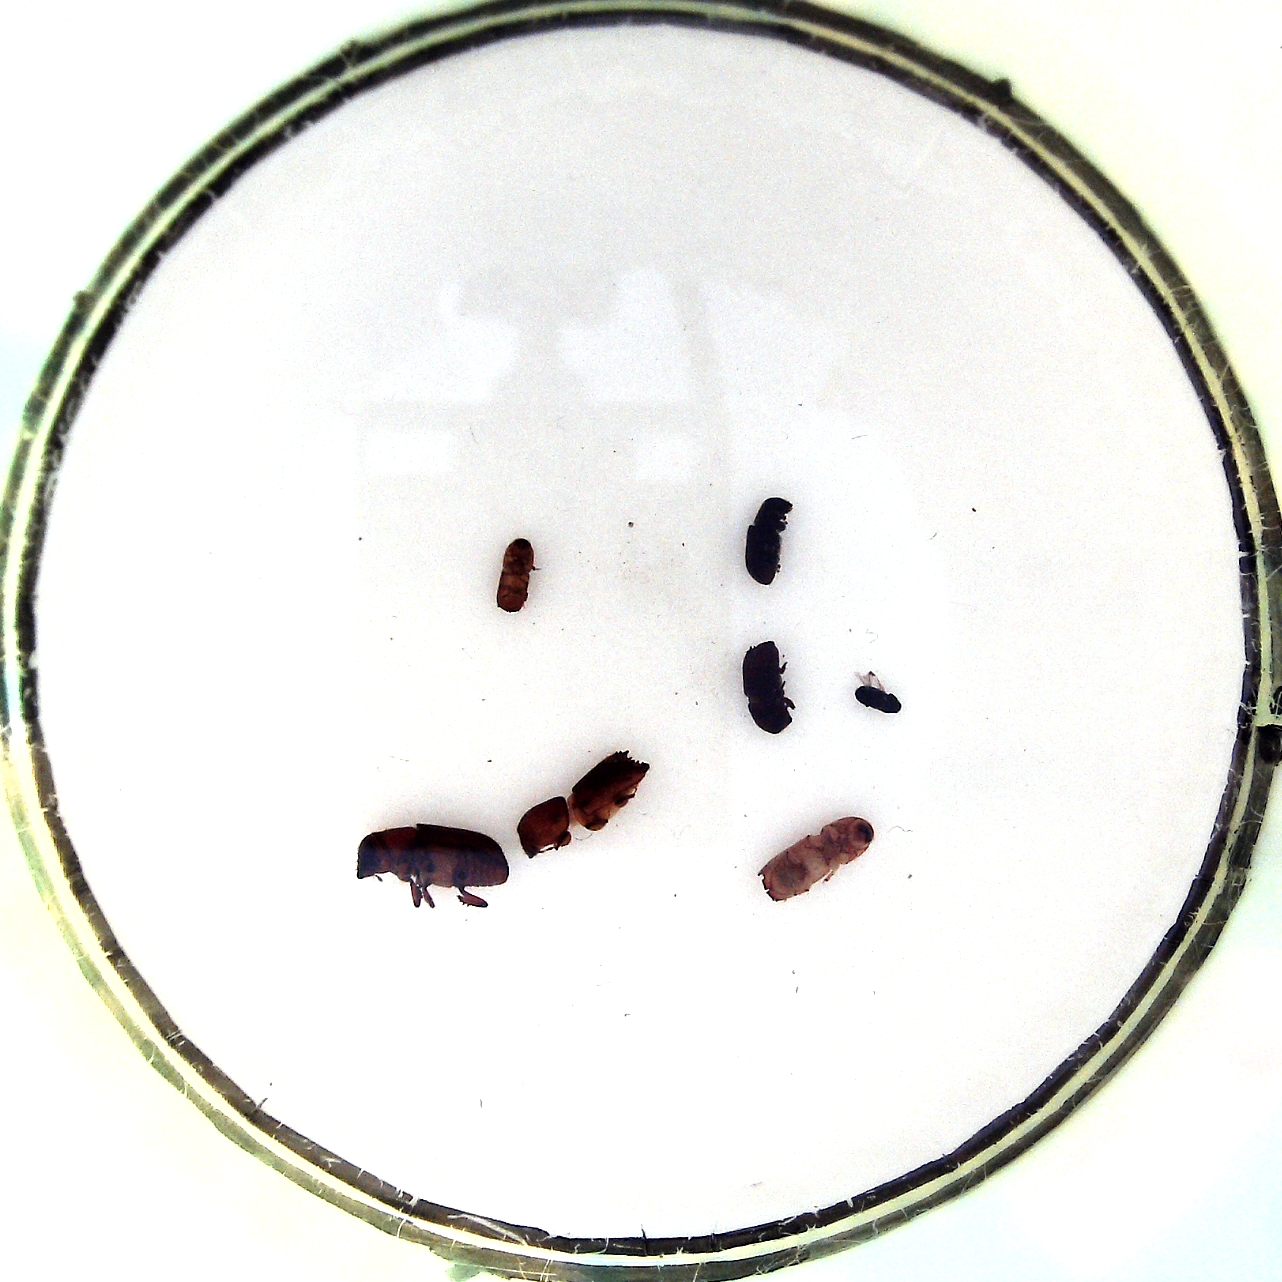Boerner: (510, 749, 652, 862), (756, 814, 880, 903)
Leconte: (356, 823, 512, 913)
Linnaeus: (737, 637, 797, 738)
acuminatus: (492, 537, 535, 615)
armandi: (742, 495, 792, 589)
coleoptera: (853, 669, 905, 715)
